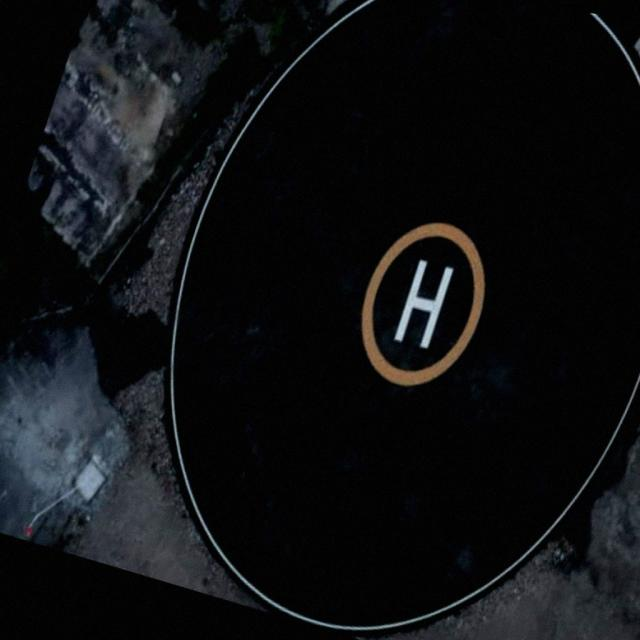helipad: (353, 217, 493, 393)
